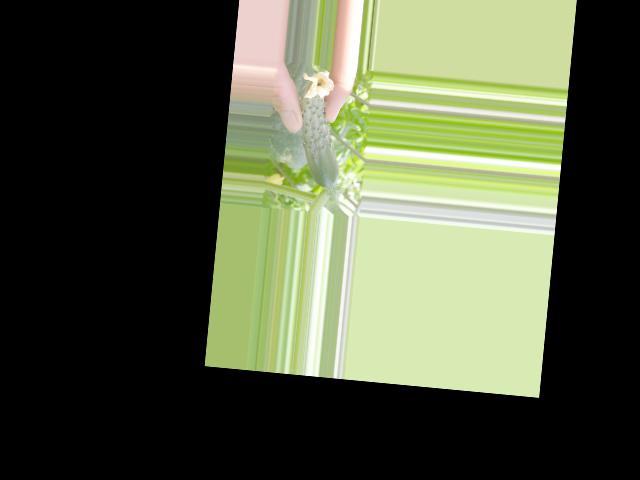cucumber: (292, 70, 347, 189)
